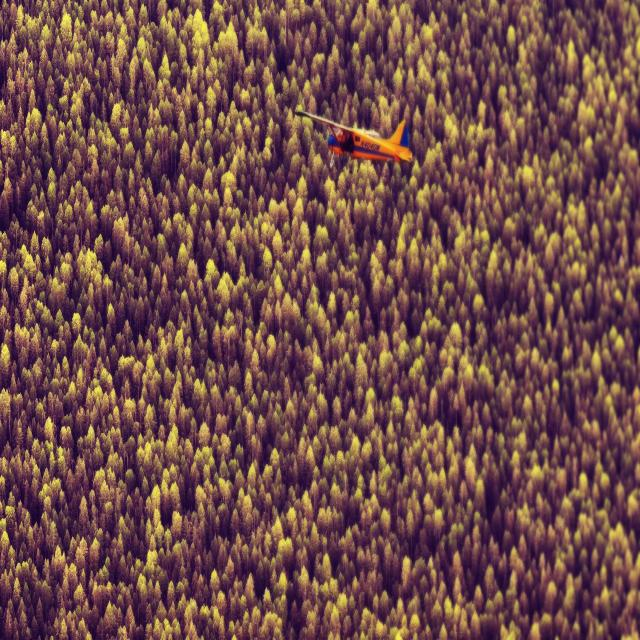airplane: (294, 108, 413, 168)
